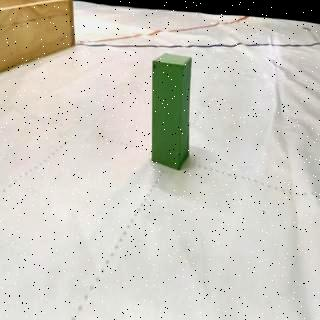greenbox: (151, 51, 193, 170)
